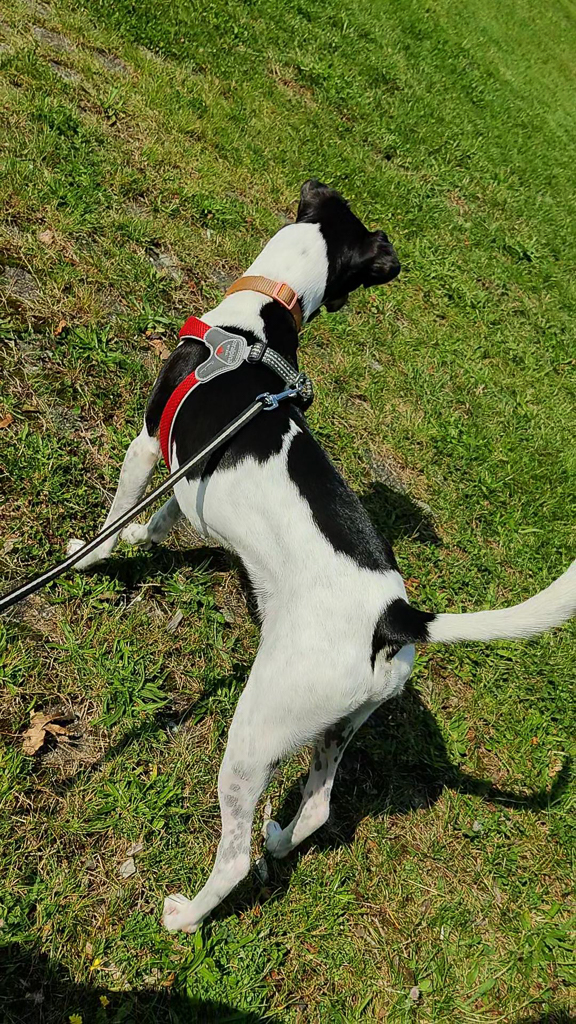Dog: (49, 160, 576, 949)
